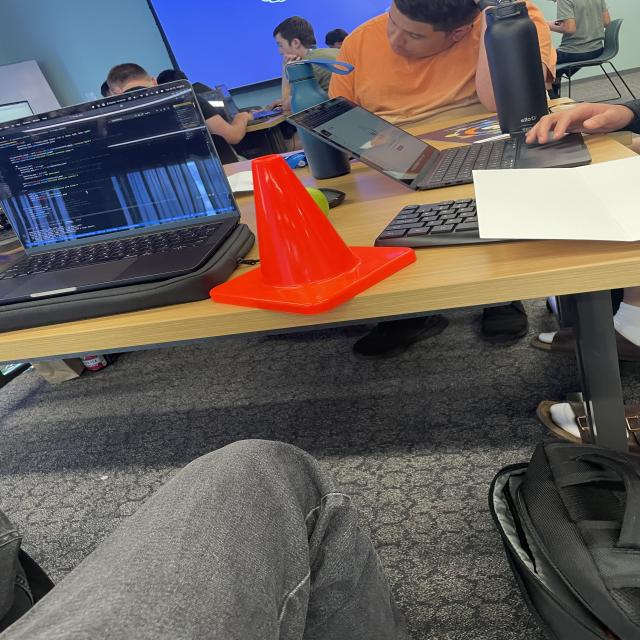Traffic Cone: (210, 151, 412, 316)
